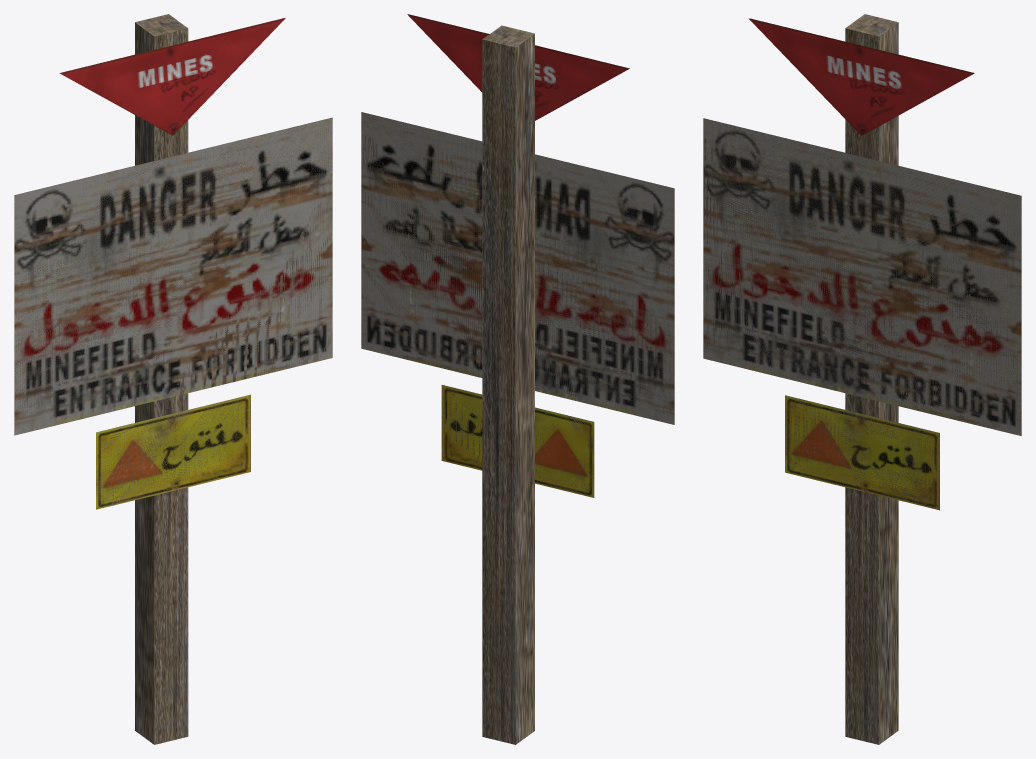
File: Mine_me.glb
3 views of the same model, side by side, from view 1: azimuth 30°, elevation 25°; view 2: azimuth 150°, elevation 25°; view 3: azimuth 330°, elevation 25° (orthographic).
Visible parts, largest first — view 1: _Mine_me; view 2: _Mine_me; view 3: _Mine_me.
Part boxes in pixels (x1,y1,x2,y2): _Mine_me: (14,14,332,744); _Mine_me: (361,14,674,744); _Mine_me: (703,14,1021,744).
Bounding box in the file's own units: 0.9402 × 2 × 0.1052.
1 material, 1 textured.
